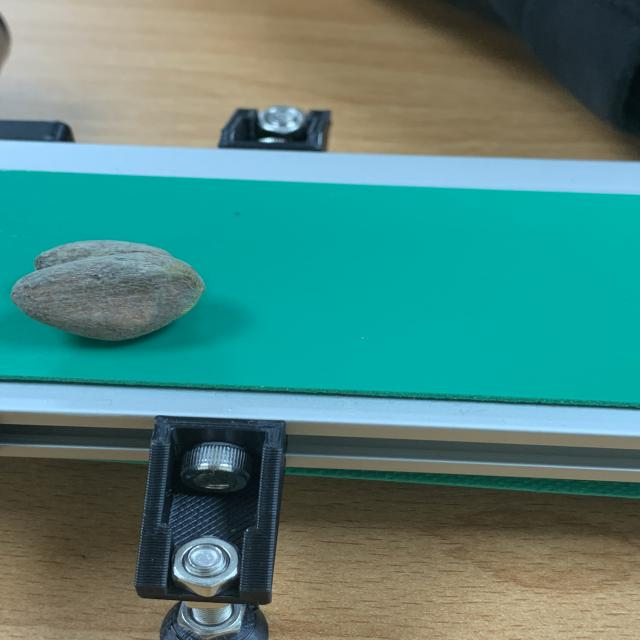Agglomerated_cocoabeans: (0, 214, 292, 373)
